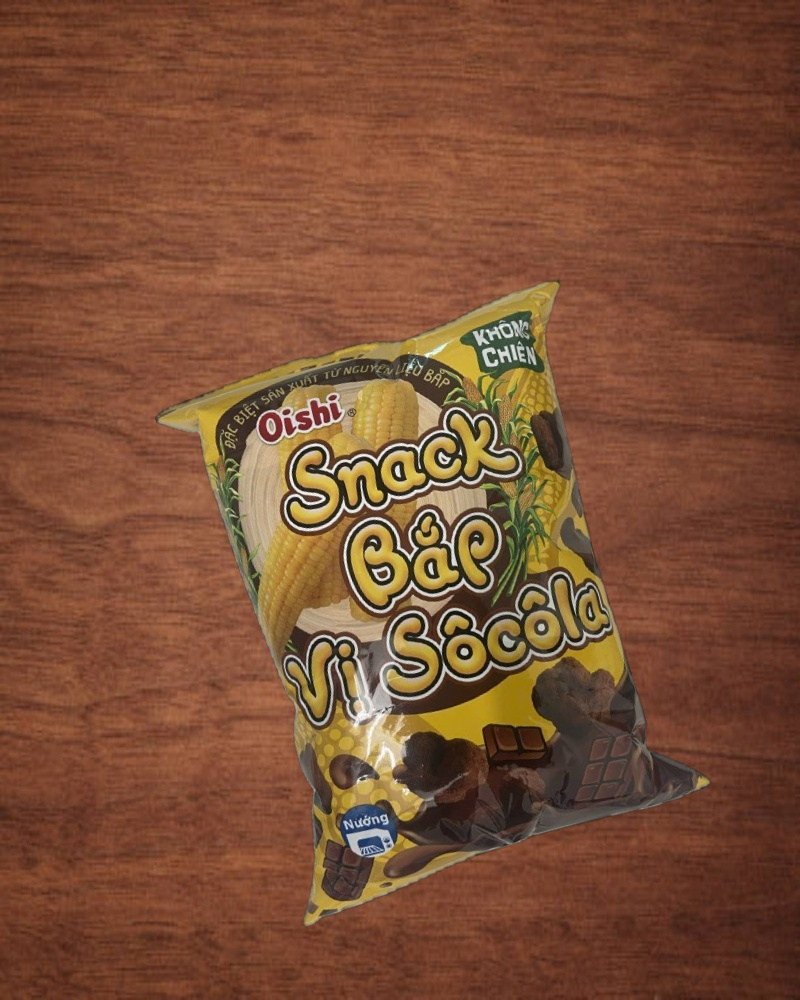Snack socola: (151, 278, 718, 918)
